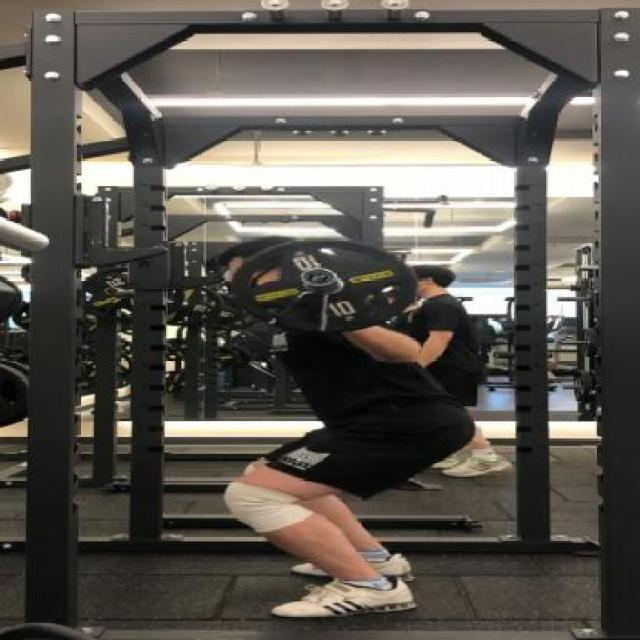barbell: (210, 229, 444, 348)
